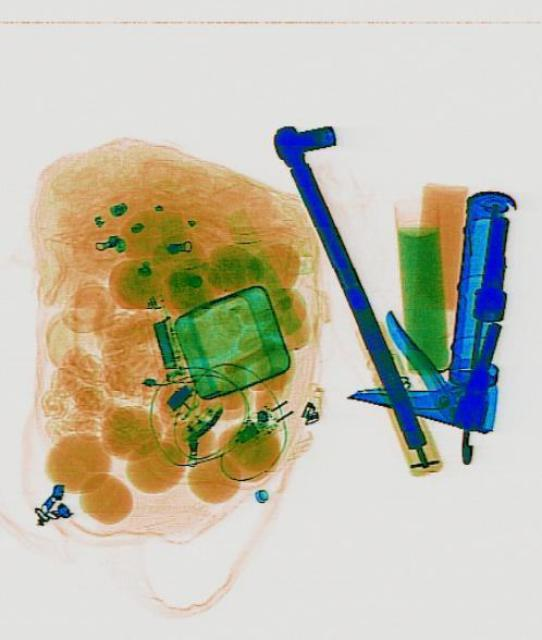Knife: (340, 172, 519, 434)
